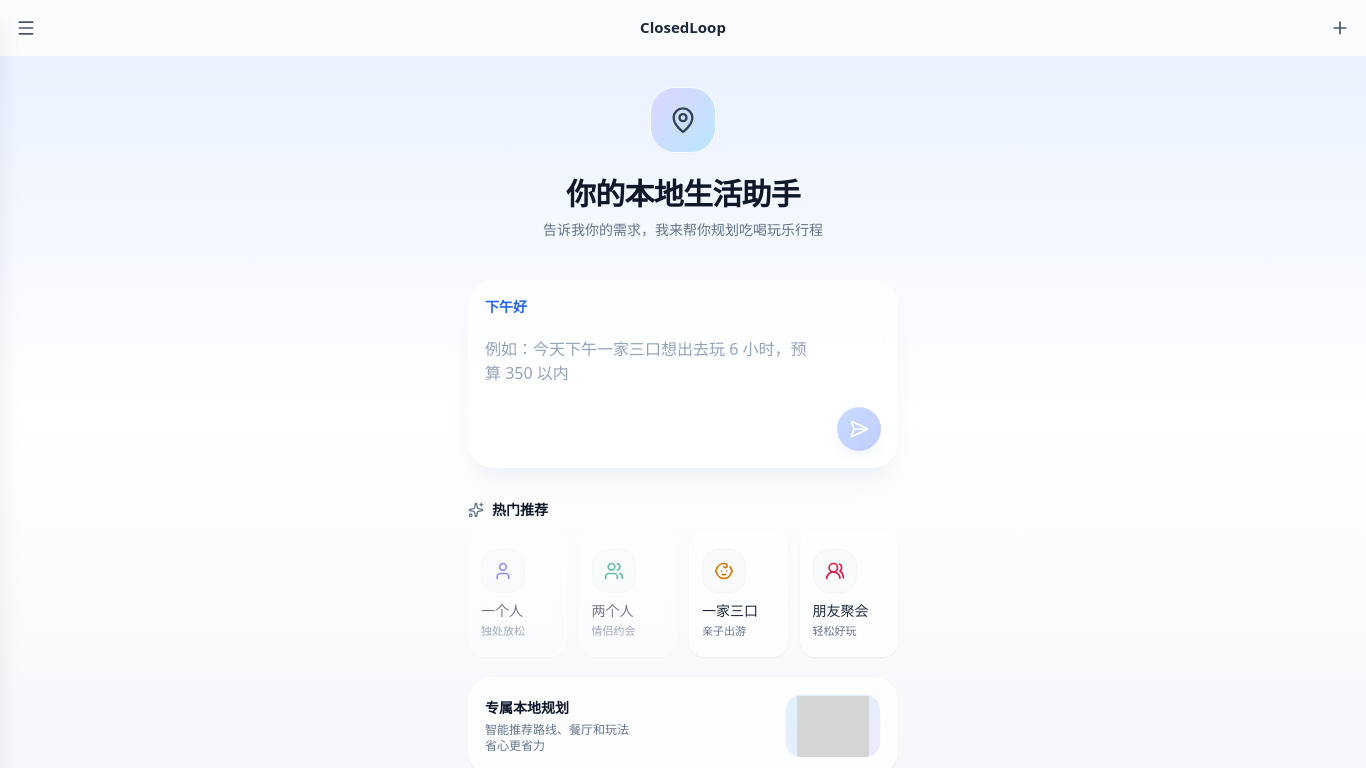
Scenario: HomePage demo prompts › 一家三口示例预算为 500
Step 1. Click the text "一家三口" → (730, 610), box left=702, top=601, right=758, bottom=620
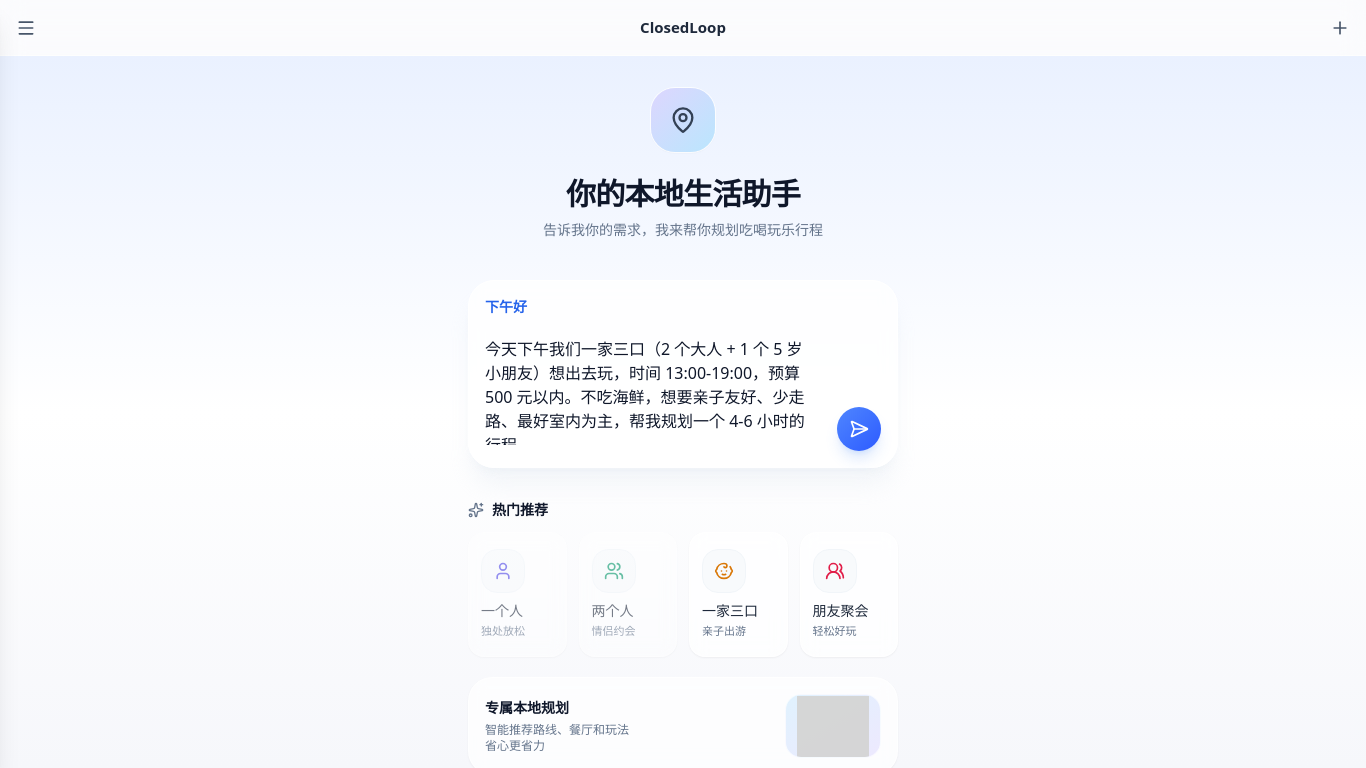
Now the text box showing "预算 500 元以内" is shown, box left=485, top=325, right=881, bottom=445
